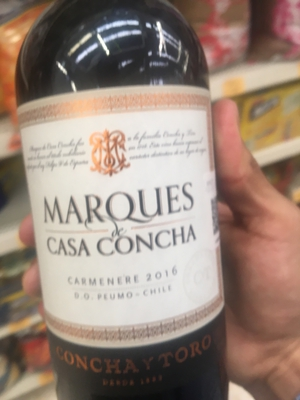marques de casa concha carmenere: (16, 20, 220, 400)
